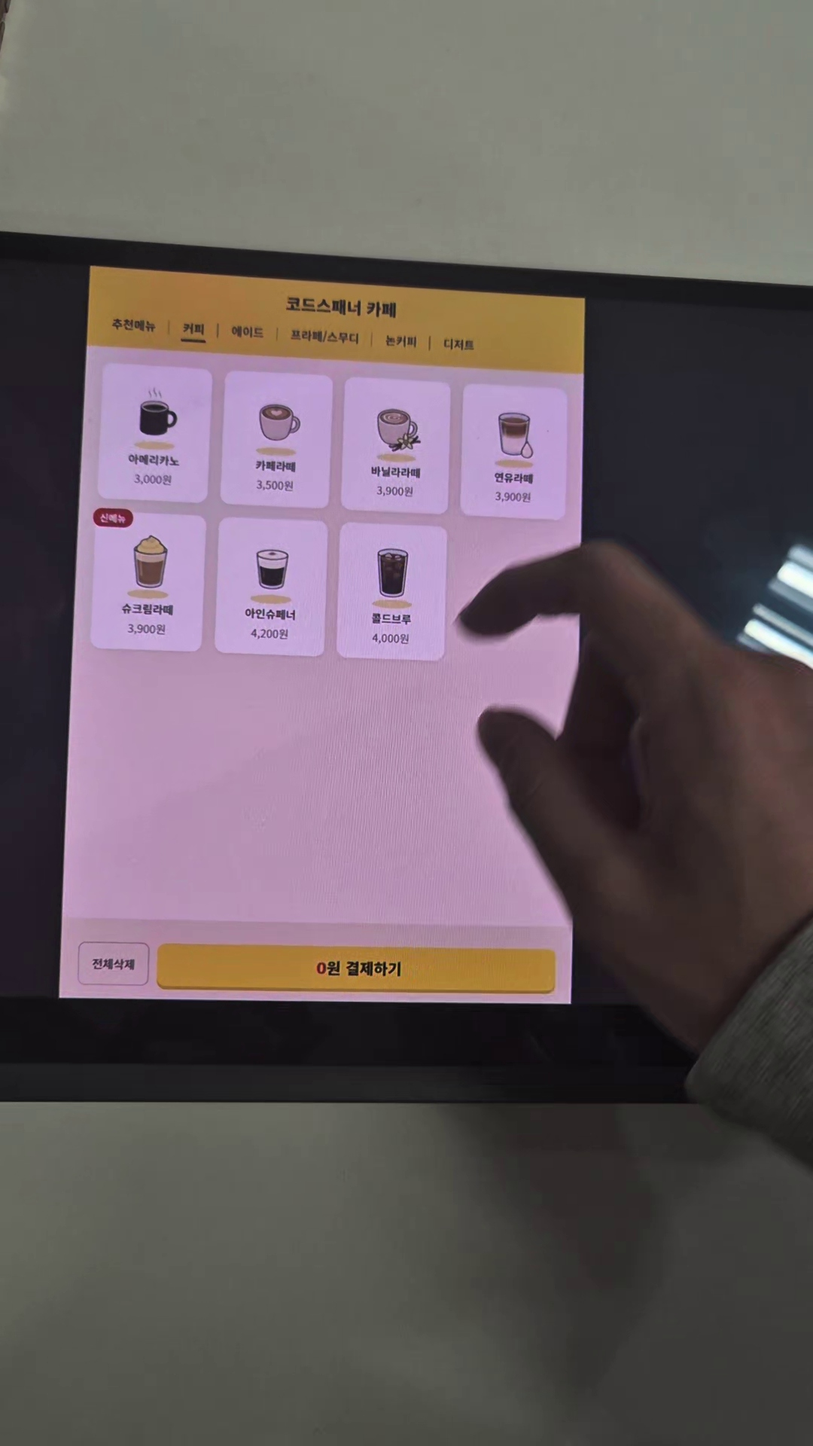action_button: (157, 944, 555, 994), (78, 942, 150, 986)
category_tab: (288, 327, 362, 347), (110, 316, 158, 334), (381, 332, 419, 350), (439, 336, 477, 354), (230, 324, 266, 340), (180, 321, 206, 336)
menu_back: (90, 509, 206, 652), (97, 363, 213, 504), (215, 518, 328, 657), (220, 371, 333, 509), (336, 523, 448, 661), (340, 379, 451, 515), (461, 385, 568, 520)
menu_name: (240, 606, 298, 623), (368, 463, 422, 481), (125, 452, 182, 468), (119, 601, 174, 617), (369, 610, 414, 628), (251, 458, 298, 474), (492, 470, 535, 486)
menu_price: (254, 477, 295, 495), (131, 471, 174, 488), (492, 489, 534, 506), (126, 621, 168, 638), (374, 483, 415, 500), (247, 626, 290, 642), (370, 632, 411, 646)
